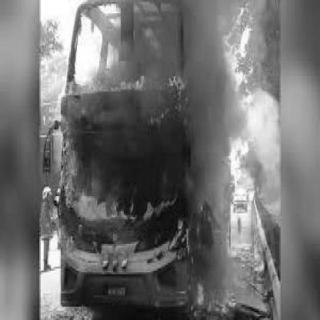Fire: (44, 45, 190, 247), (187, 255, 245, 312)
